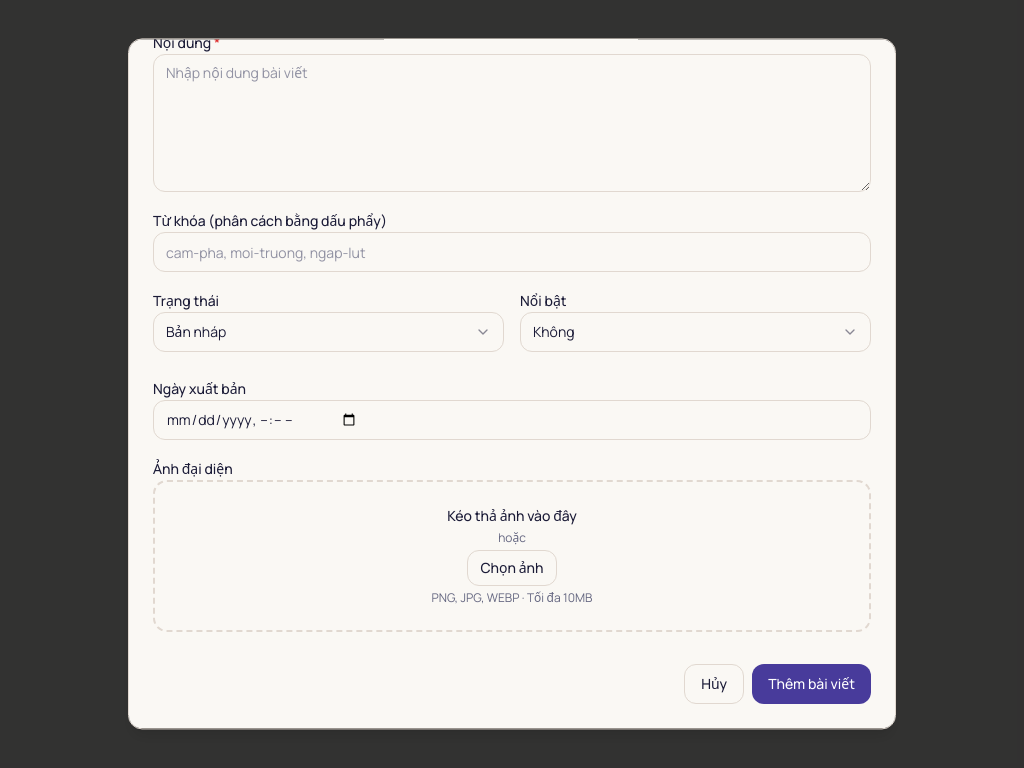
Scenario: NewsFormDialog › shows validation errors for missing title and content
The image size is (1024, 768).
(page scrolled)
Click the button "Thêm bài viết". click: x=812, y=684
box: [752, 664, 871, 704]
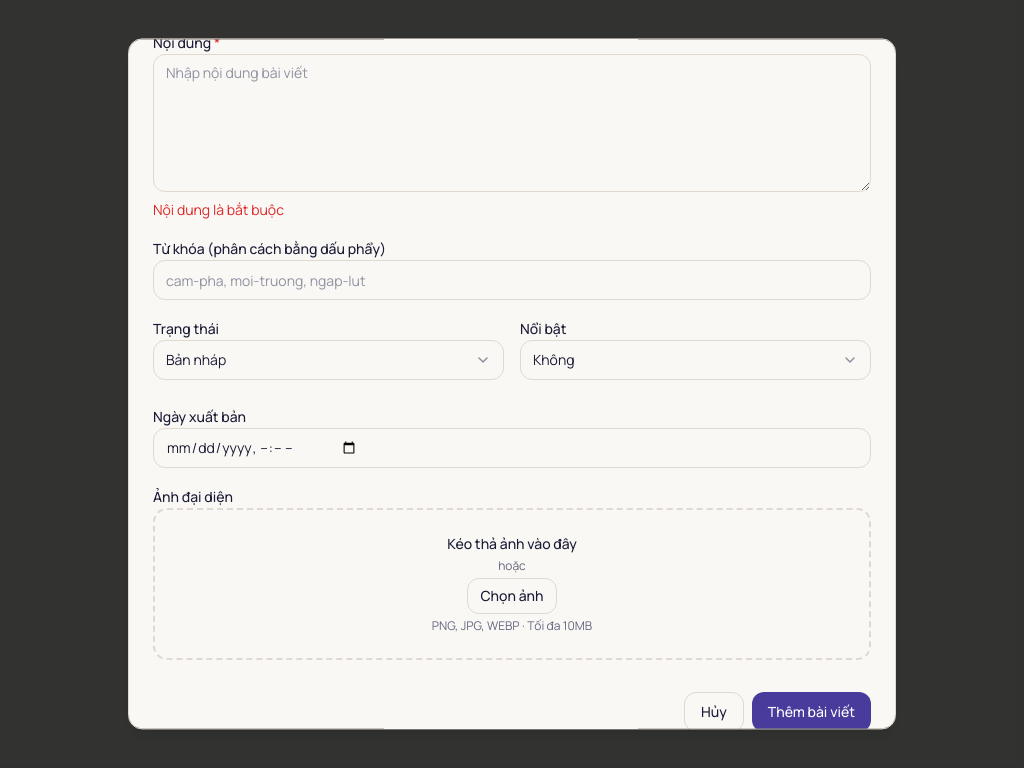
Result: the text "Nội dung là bắt buộc" is shown at [153, 200, 284, 219]
